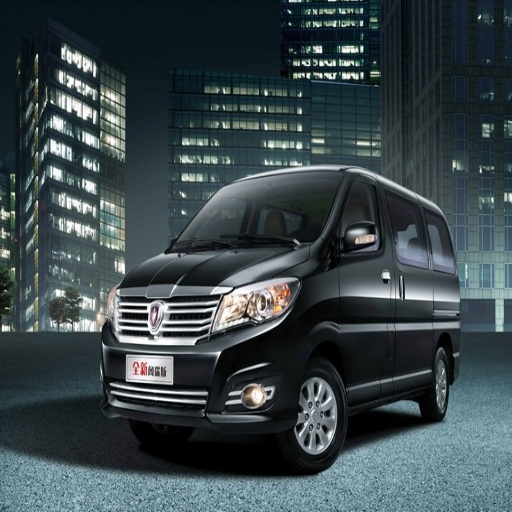front_bumper: (100, 287, 308, 433)
front_glass: (171, 176, 341, 251)
front_left_door: (336, 176, 397, 400)
trunk: (409, 272, 462, 366)
